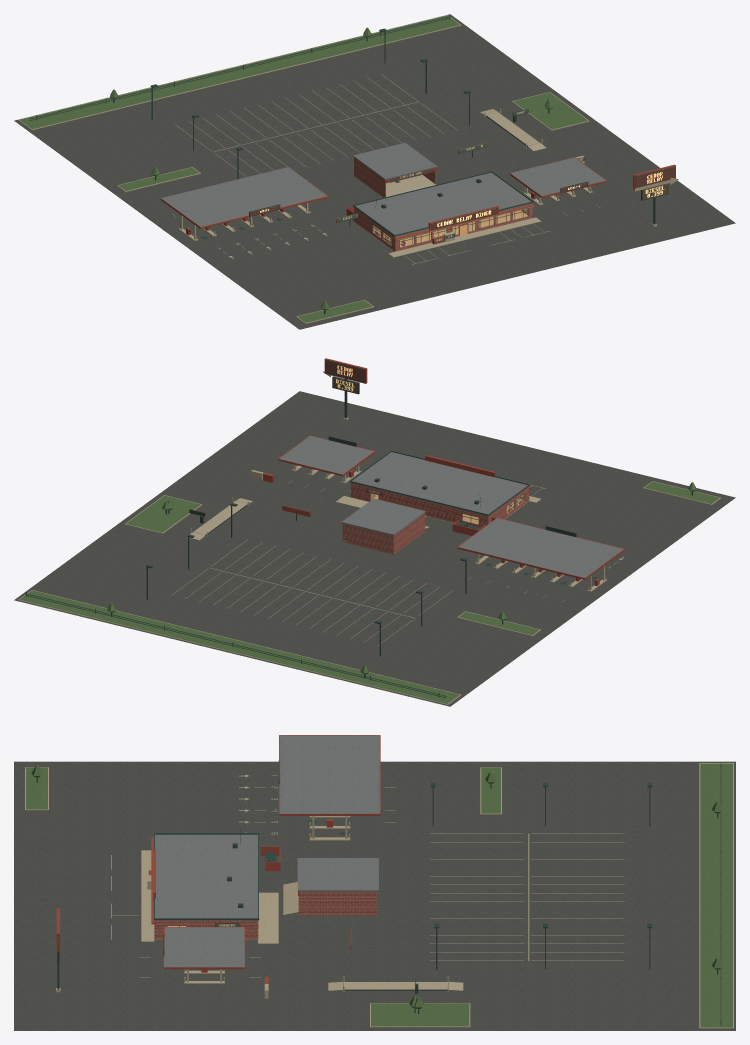
File: cedar-relay-1960-far.glb
The picture shows the model from 3 angles, top to bottom: view 1: azimuth 30°, elevation 25°; view 2: azimuth 150°, elevation 25°; view 3: azimuth 270°, elevation 25°; orthographic projection. The views are drawn at different scales.
Parts seen in each view (by area): view 1: lot, building_shell, diesel_canopy, era_service_bay, car_canopy, sign_name; view 2: lot, building_shell, diesel_canopy, era_service_bay, car_canopy, sign_name_rear; view 3: lot, building_shell, diesel_canopy, era_service_bay, car_canopy.
Part boxes in pixels (x1,y1,x2,y2): lot: (14, 14, 735, 329); building_shell: (353, 171, 534, 251); diesel_canopy: (160, 167, 328, 240); era_service_bay: (353, 143, 437, 197); car_canopy: (509, 157, 606, 205); sign_name: (635, 166, 675, 188); lot: (14, 391, 735, 706); building_shell: (349, 450, 531, 527); diesel_canopy: (457, 518, 624, 591); era_service_bay: (341, 498, 429, 554); car_canopy: (278, 435, 374, 483); sign_name_rear: (325, 360, 365, 382); lot: (14, 761, 735, 1030); building_shell: (151, 830, 259, 939); diesel_canopy: (278, 735, 380, 840); era_service_bay: (283, 858, 378, 915); car_canopy: (163, 927, 244, 983).
Size of what is drawn, in the model's own units: 127 by 15.56 by 144.
Materials: 10 (10 with a texture image).
